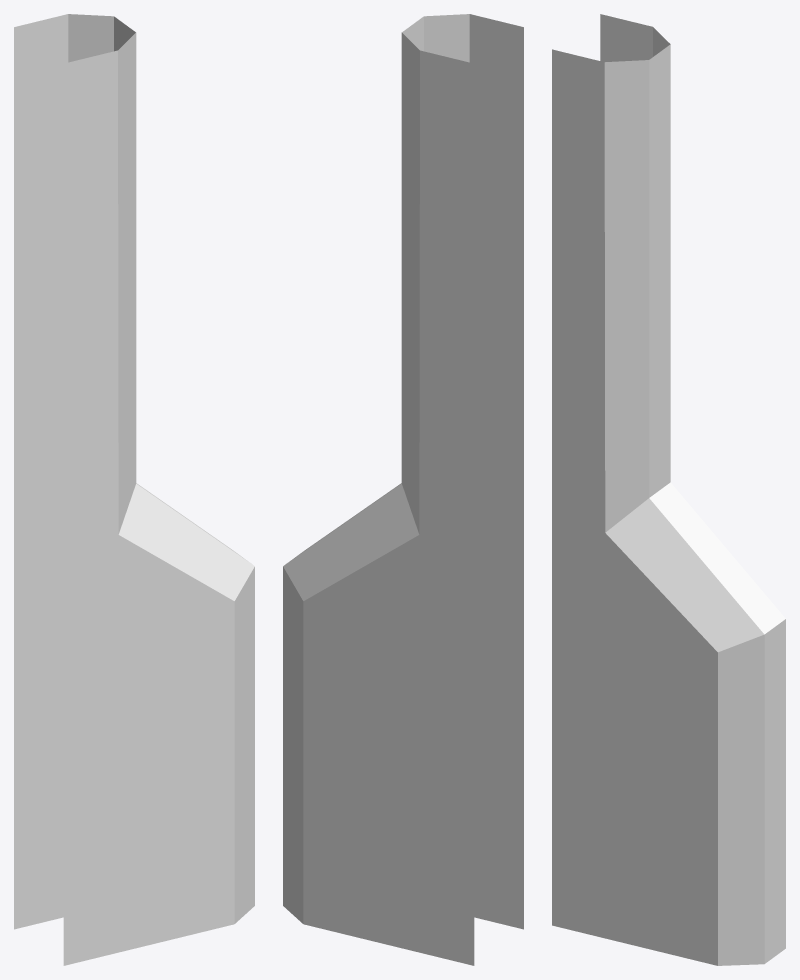
File: SM_WallSupportThin.fbx
3 renders of one model, left to right at view 1: azimuth 30°, elevation 25°; view 2: azimuth 150°, elevation 25°; view 3: azimuth 330°, elevation 25°, orthographic. The views are drawn at different scales.
Visible parts, largest first — view 1: Cube.007; view 2: Cube.007; view 3: Cube.007.
Part boxes in pixels (box(x1,y1,x2,y2)): Cube.007: box(14, 14, 254, 965); Cube.007: box(283, 14, 523, 965); Cube.007: box(552, 14, 785, 965).
Size of the model in its own units: 20 by 47.56 by 200.
